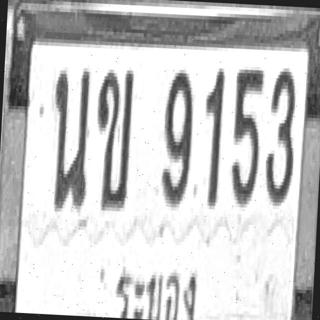A02: (92, 67, 134, 210)
A25: (49, 67, 92, 209)
N01: (200, 68, 225, 206)
N03: (264, 66, 298, 205)
N05: (230, 64, 264, 206)
N09: (160, 69, 194, 205)
P53: (112, 255, 204, 320)
